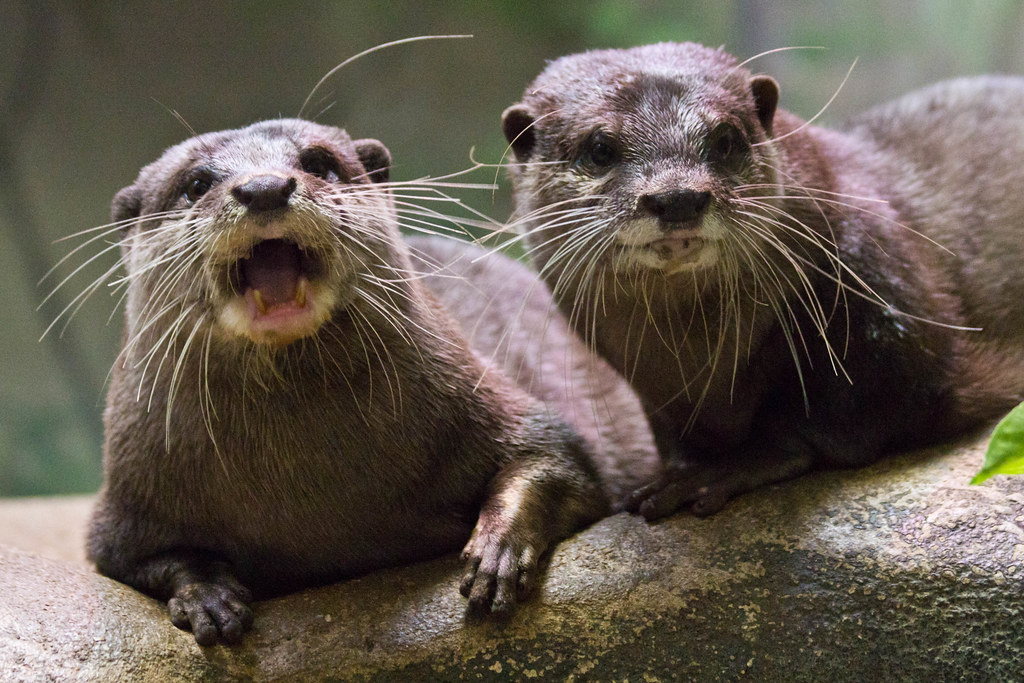otter: (73, 96, 665, 652), (498, 22, 1024, 523)
